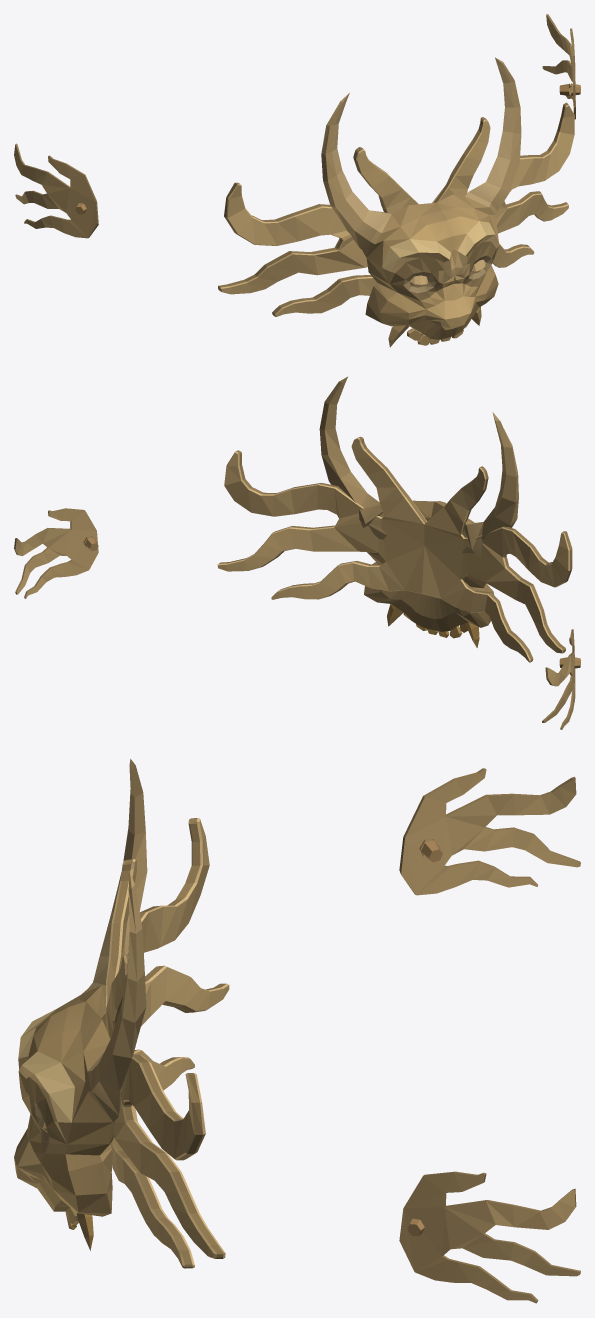
The model's file is smallCrossbowSamuraiTip.glb.
3 renders of one model, top to bottom at view 1: azimuth 30°, elevation 25°; view 2: azimuth 150°, elevation 25°; view 3: azimuth 270°, elevation 25°, orthographic. The views are drawn at different scales.
Visible parts, largest first — view 1: smallCrossbowSamuraiTip; view 2: smallCrossbowSamuraiTip; view 3: smallCrossbowSamuraiTip.
Part boxes in pixels (left/top/right/bottom): smallCrossbowSamuraiTip: left=14, top=14, right=580, bottom=347; smallCrossbowSamuraiTip: left=14, top=376, right=580, bottom=729; smallCrossbowSamuraiTip: left=14, top=759, right=580, bottom=1303.
Bounding box in the file's own units: 0.4247 × 0.1917 × 0.2432.
